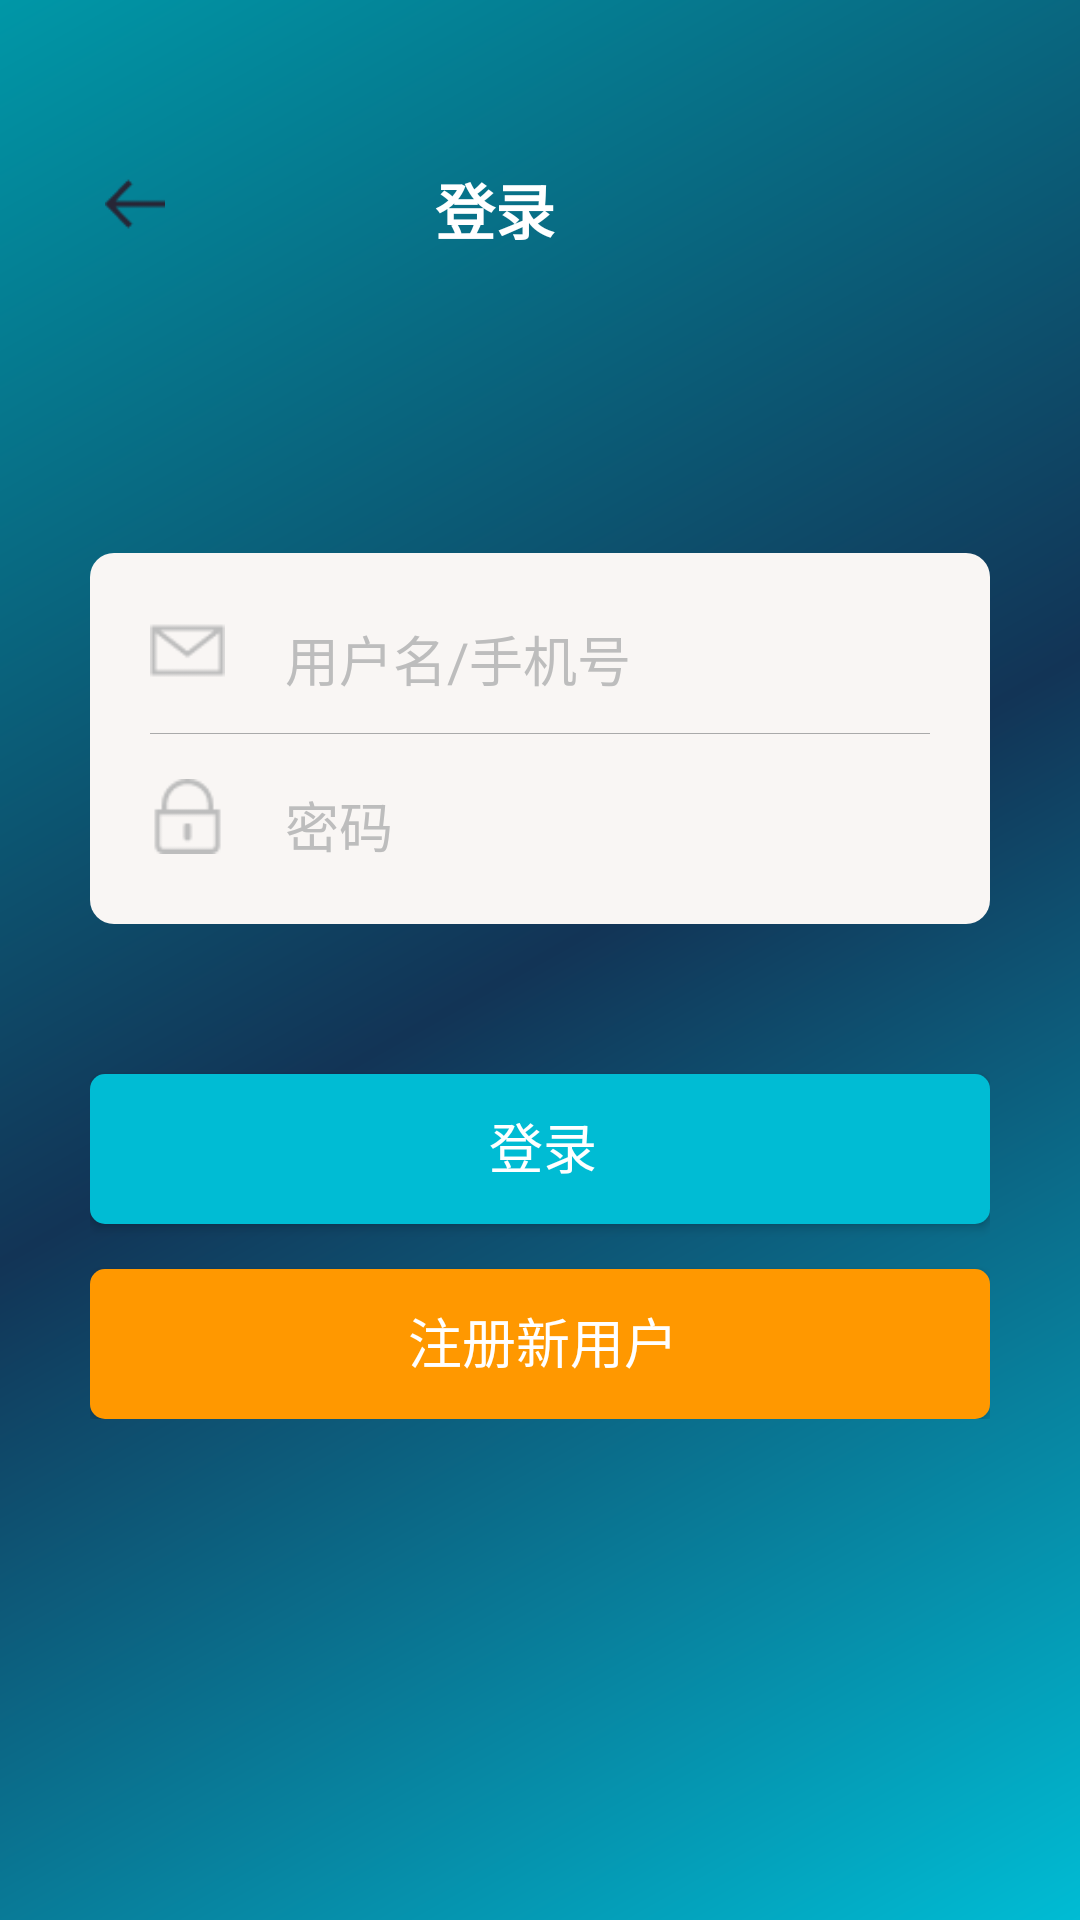

Point at icon controls on the screen. Image size 1080*1920, points as [x,y].
email: [187,650]
left arrow: [135,204]
password: [187,816]
